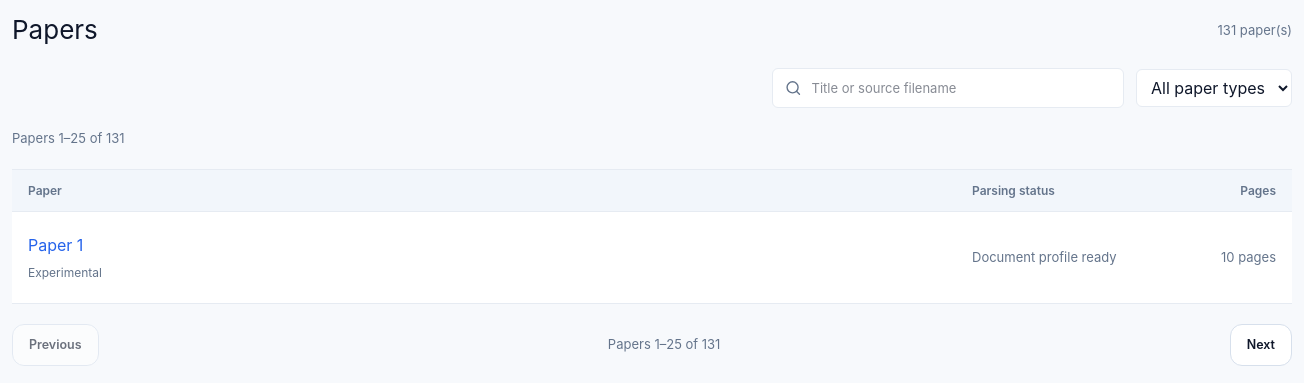
Scenario: collections/[id]/documents/+page.svelte › searches the collection and resets to the first page
In the search field named "Search papers": (961, 88) [812,69,1111,107], type "  laser porosity  "
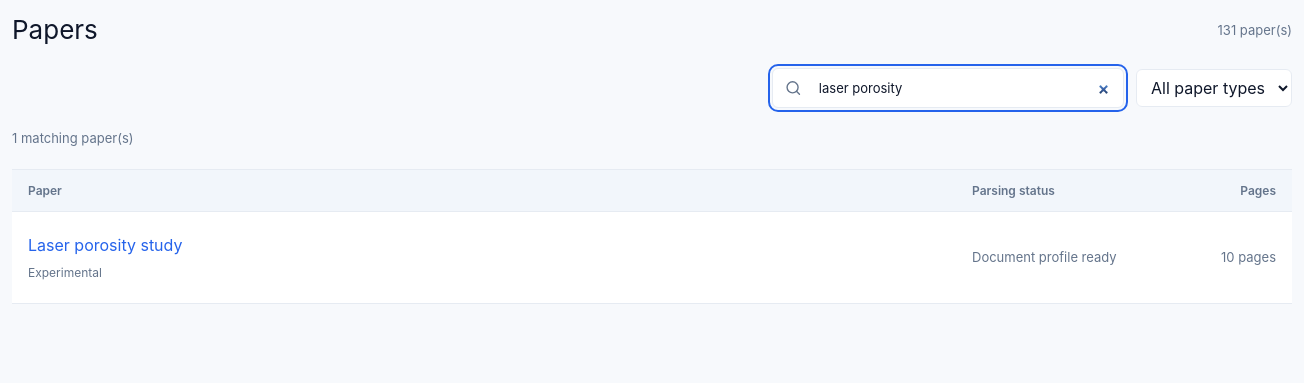
Now the heading "Laser porosity study" is shown, box [28,235,182,255]
